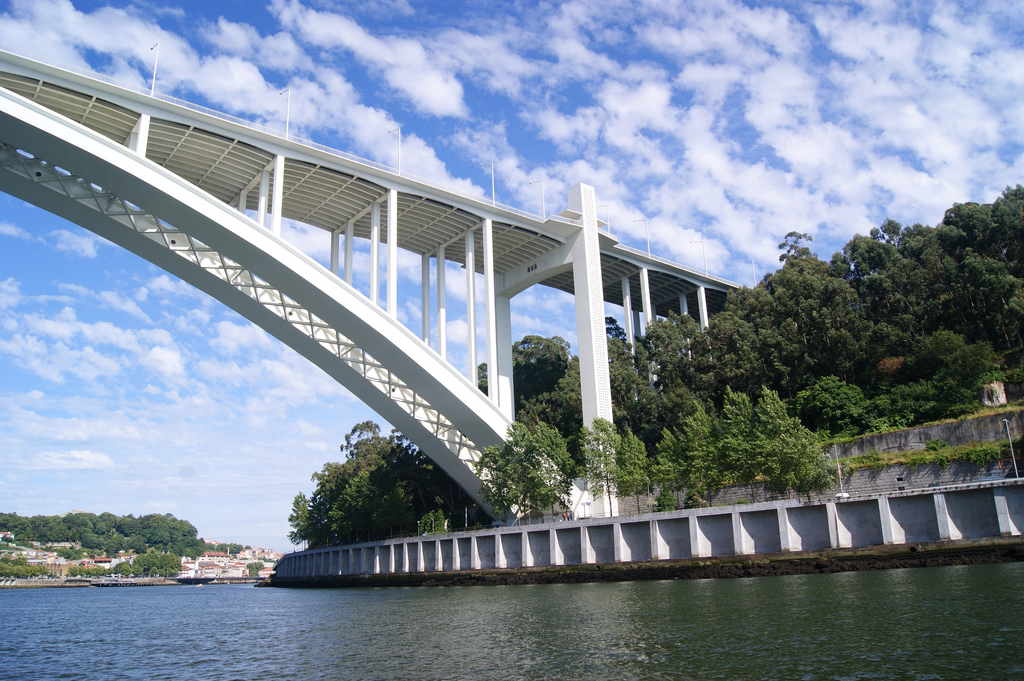arrabida: (0, 48, 756, 527)
